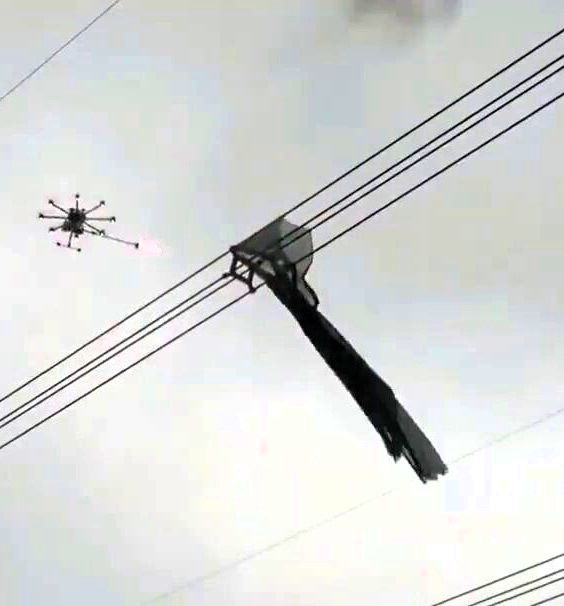wire foreign body: (216, 204, 464, 492)
